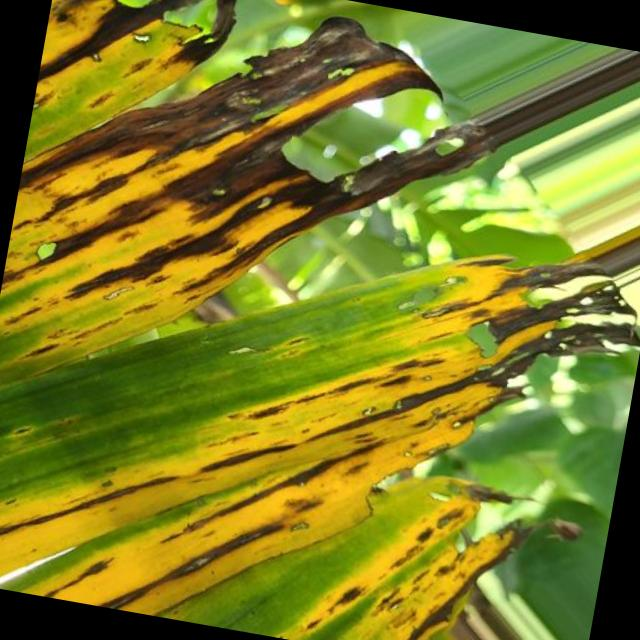Banana_Black_Sigatoka: (76, 0, 528, 341)
